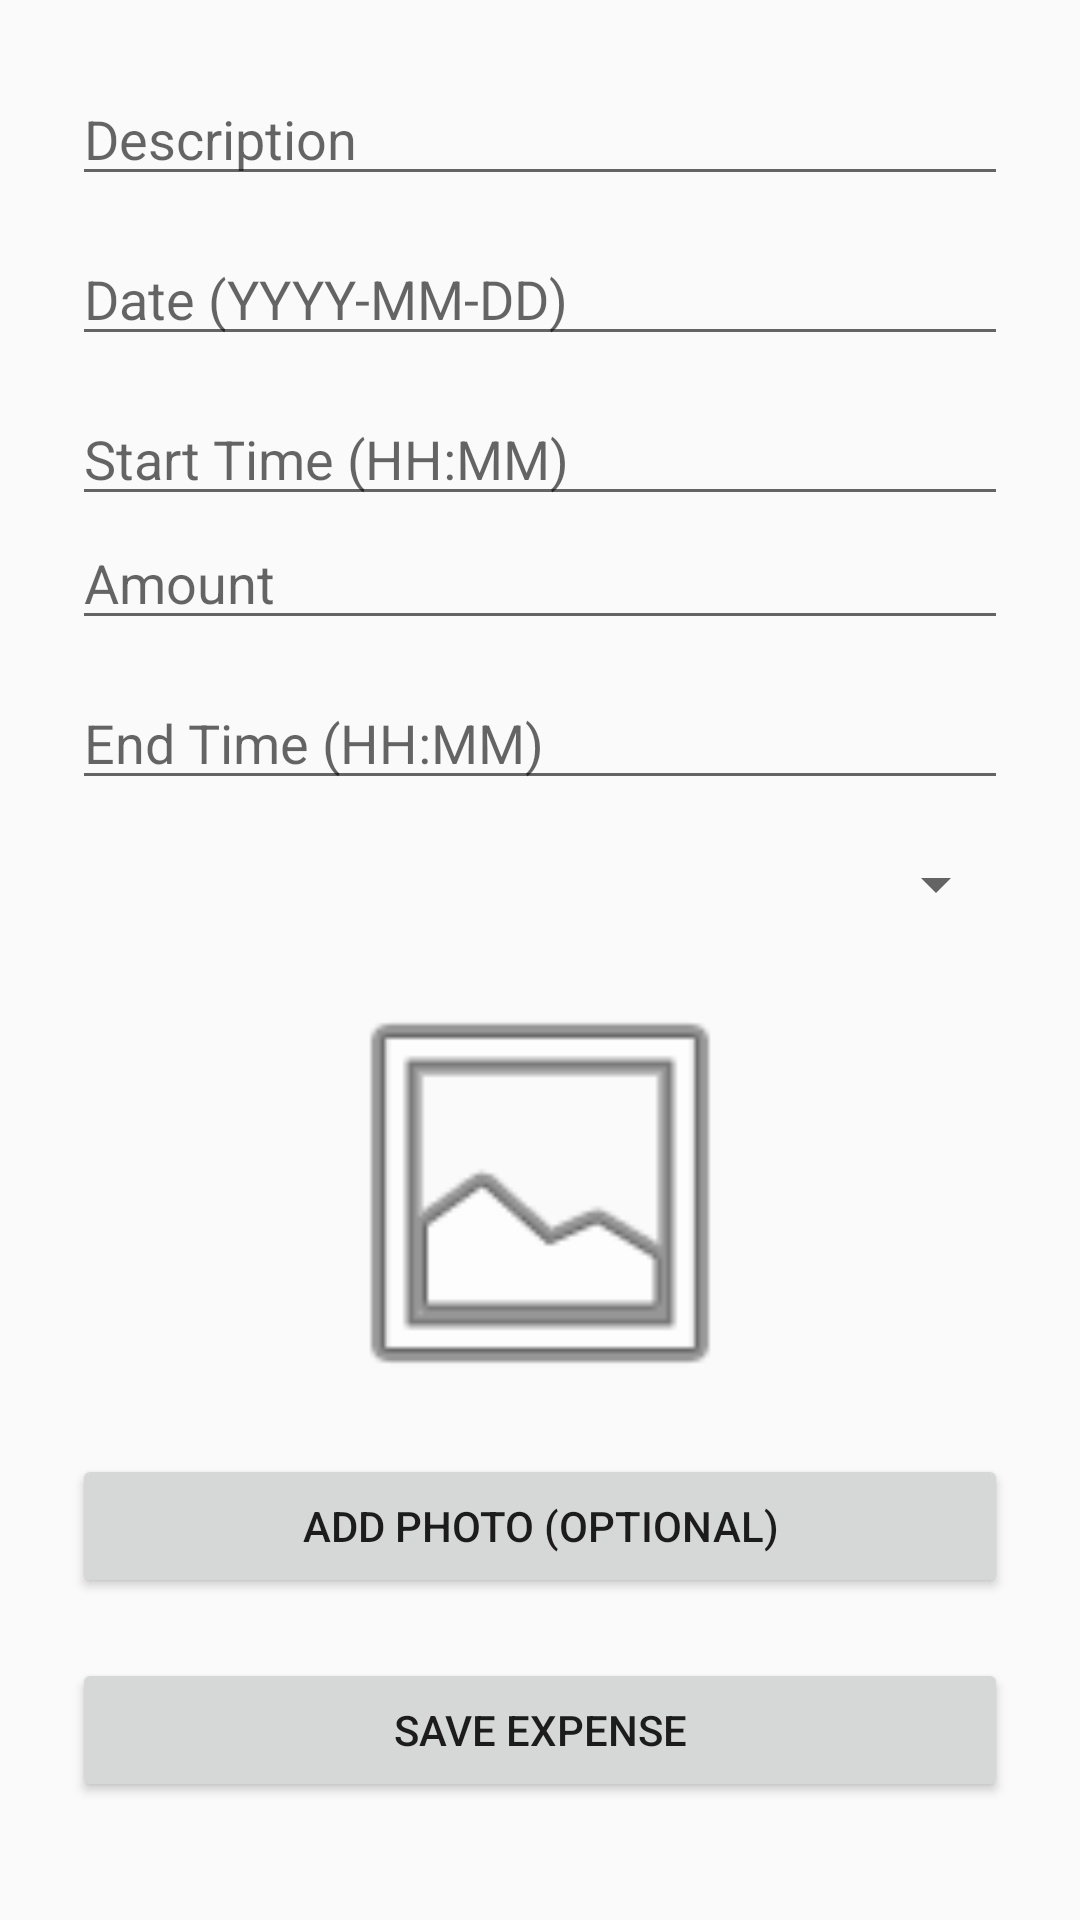

Locate icon controls on the screen. Image size 1080px×1920px, boxes as (x1, y1, x2, y2).
gallery: (370, 1023, 710, 1363)
